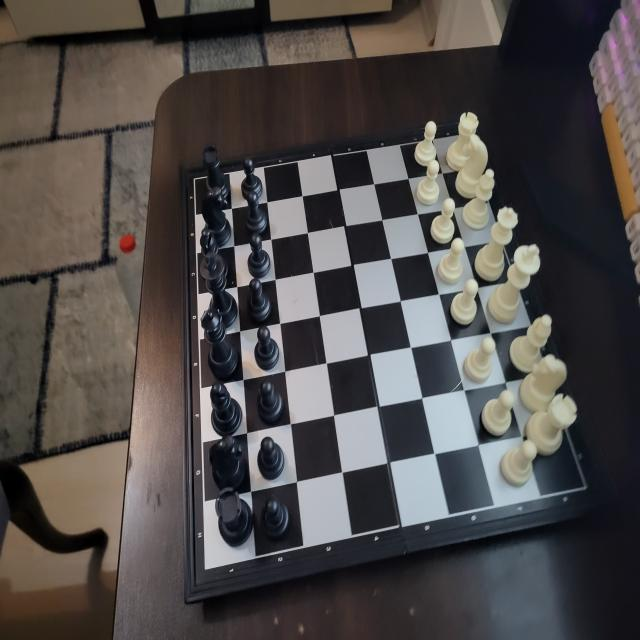black-bishop: (207, 380, 245, 438), (199, 227, 219, 254)
black-king: (198, 251, 238, 326)
black-knight: (208, 434, 248, 491), (200, 185, 232, 249)
black-pawn: (259, 494, 292, 542), (255, 435, 287, 484), (255, 376, 285, 427), (253, 324, 280, 372), (246, 231, 272, 279), (246, 276, 272, 324), (240, 156, 264, 200), (244, 192, 268, 236)
black-queen: (200, 306, 239, 381)
black-rook: (213, 486, 254, 550), (201, 142, 231, 203)
chess-board: (186, 122, 597, 586)
white-bishop: (510, 312, 556, 367), (466, 166, 496, 232)
white-king: (492, 240, 543, 324)
white-knight: (522, 354, 570, 410), (455, 134, 485, 197)
white-pawn: (496, 438, 539, 489), (479, 384, 517, 439), (461, 334, 499, 385), (451, 275, 481, 329), (436, 236, 465, 288), (428, 196, 456, 247), (415, 160, 441, 210), (413, 120, 438, 169)
white-queen: (480, 205, 520, 276)
white-rook: (532, 394, 582, 452), (445, 110, 480, 169)
